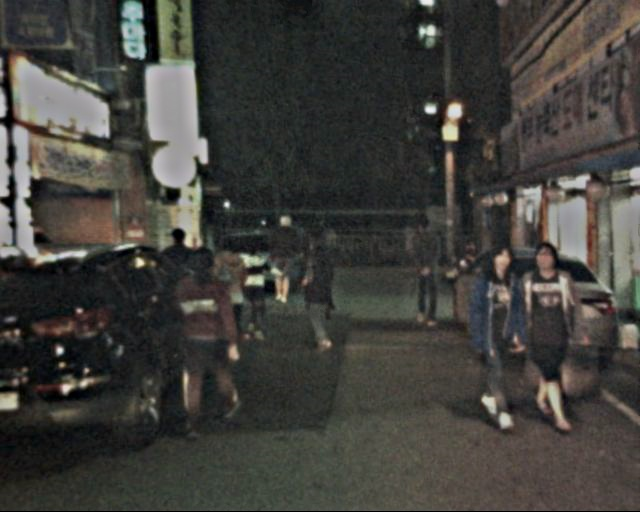person: (516, 229, 588, 428), (167, 246, 243, 429), (464, 229, 527, 430), (148, 227, 206, 363), (204, 235, 258, 364), (294, 233, 342, 358), (405, 212, 449, 331), (233, 234, 279, 344), (263, 206, 304, 306)
